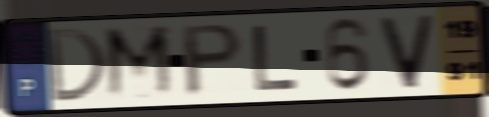6: (323, 16, 372, 94)
D: (45, 26, 109, 104)
L: (249, 23, 302, 94)
M: (102, 23, 178, 103)
P: (181, 21, 246, 100)
V: (377, 12, 438, 92)
